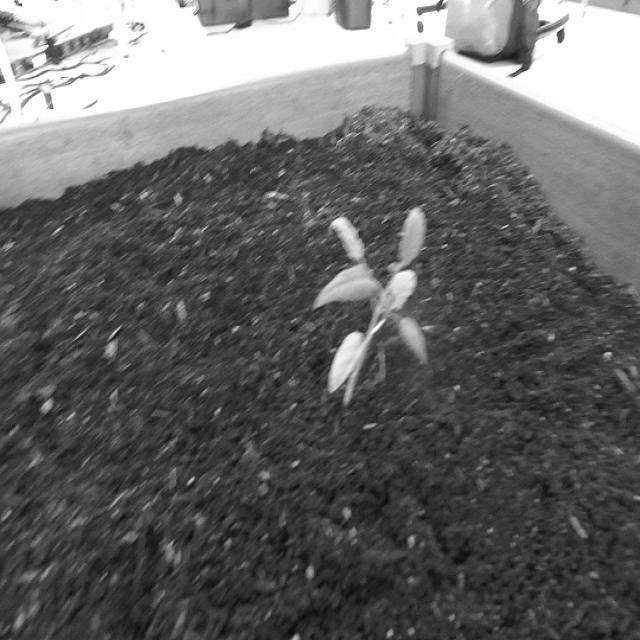Healthy: (304, 191, 441, 419)
